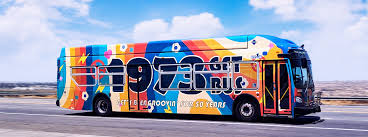bus: (55, 35, 321, 122)
